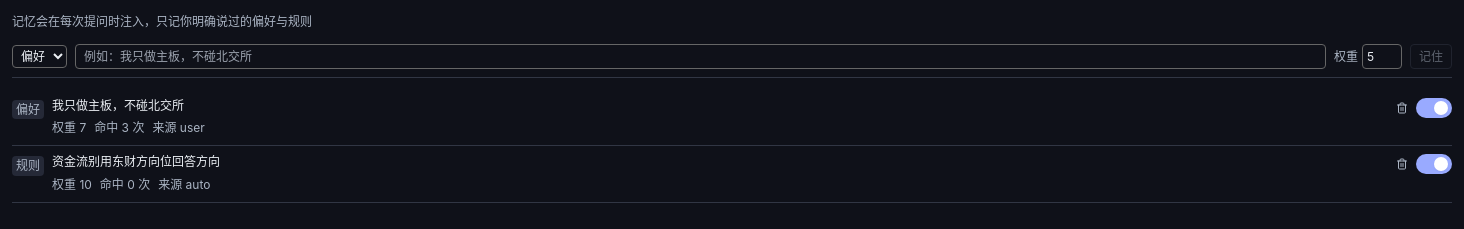
Test: MemoryPanel › 编辑：双击内容变输入框，Enter 保存
Expected: the number of list items with test id "memory-row" is 2, [12,90,1452,146]; [12,146,1452,203]
Double-click the text with test id "memory-content" showing "我只做主板，不碰北交所".
double_click(118, 105)  # box [52,98,184,113]
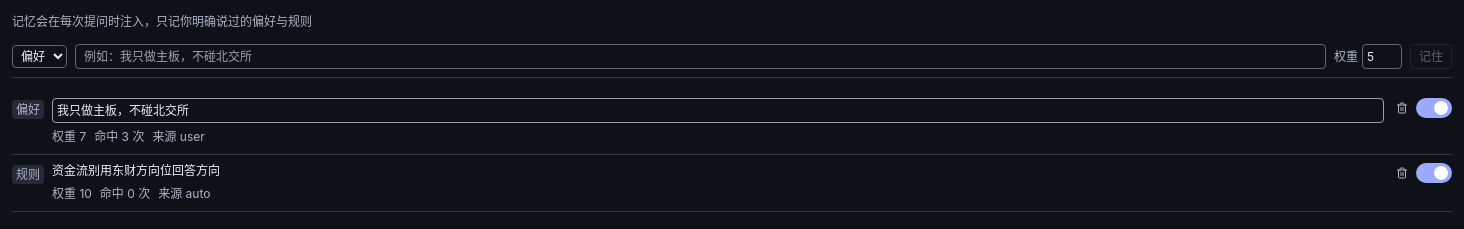
Expected: the field with test id "memory-edit-input" holds "我只做主板，不碰北交所"
Replace the text in the field with test id "memory-edit-input" with "我只做主板和创业板" at x=718, y=110, box [52,98,1384,123]
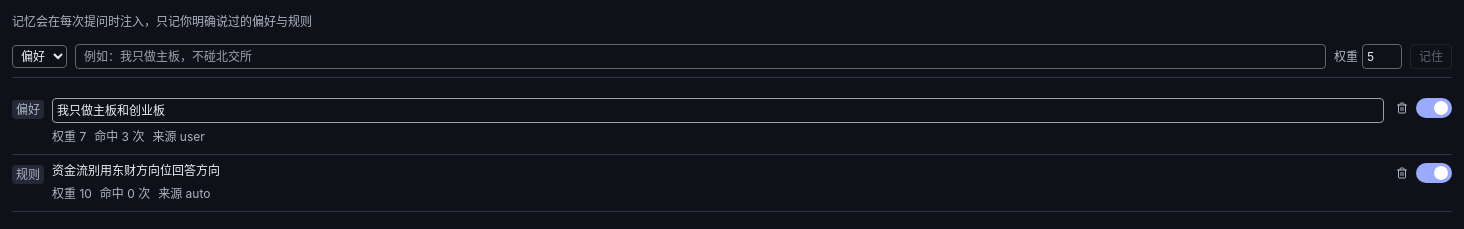
Press Enter in the field with test id "memory-edit-input", box [52,98,1384,123]
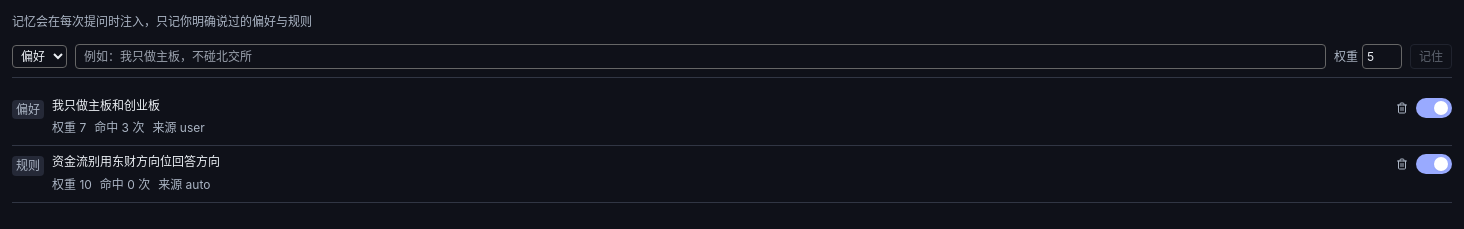
Expected: the text "我只做主板和创业板" is shown, [52,98,160,113]
